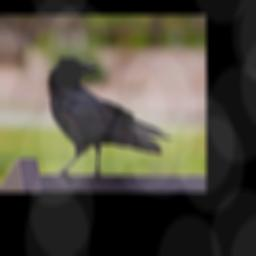Crow: (45, 56, 174, 183)
